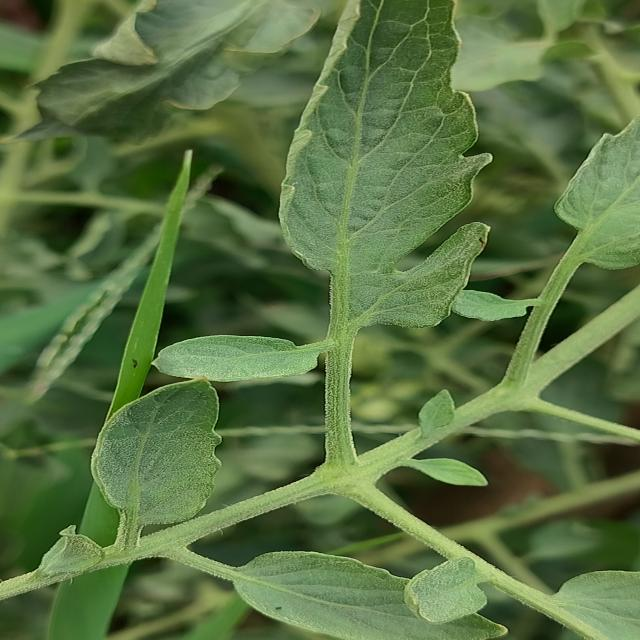tomato_healthy: (279, 0, 490, 470), (220, 538, 529, 640), (90, 380, 220, 546), (555, 118, 640, 270), (374, 558, 520, 624), (151, 335, 334, 382)
